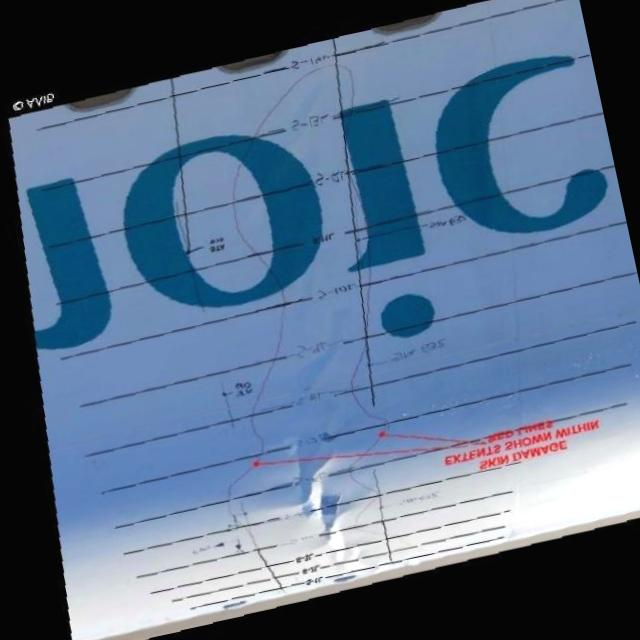dent: (235, 432, 394, 602), (272, 299, 368, 394)
